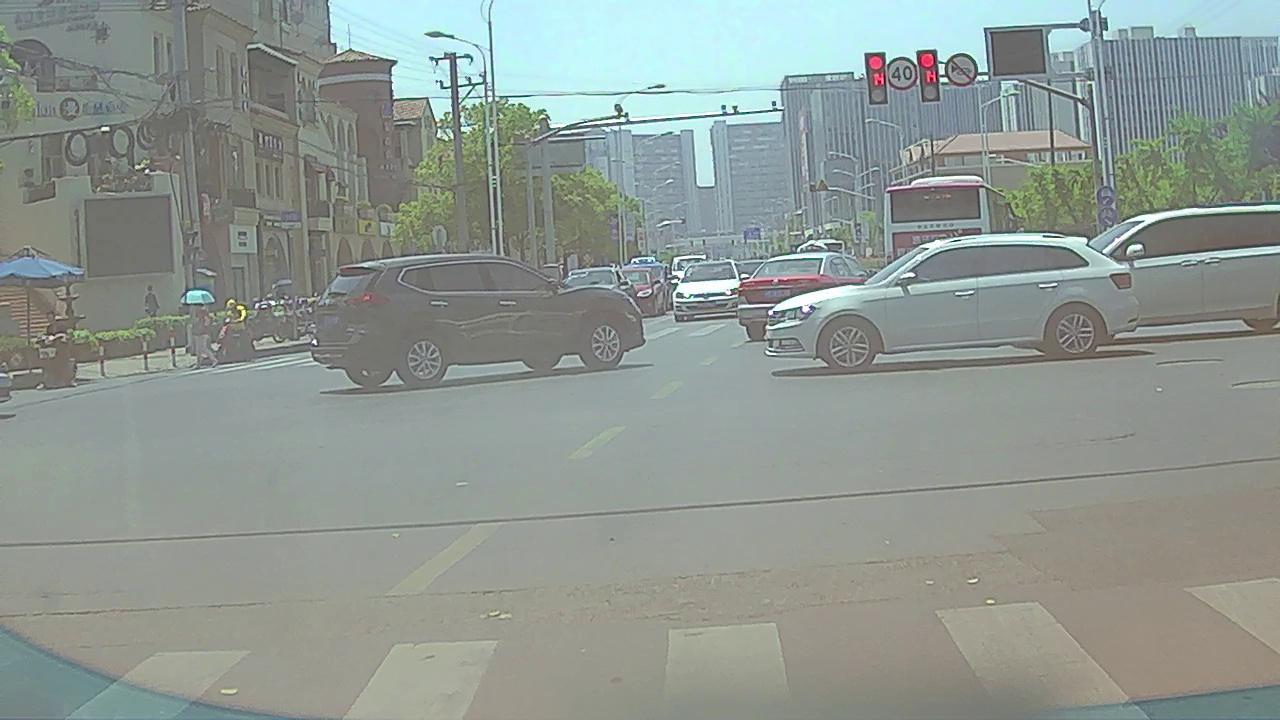traffic_light: (918, 50, 941, 103), (865, 52, 887, 104)
